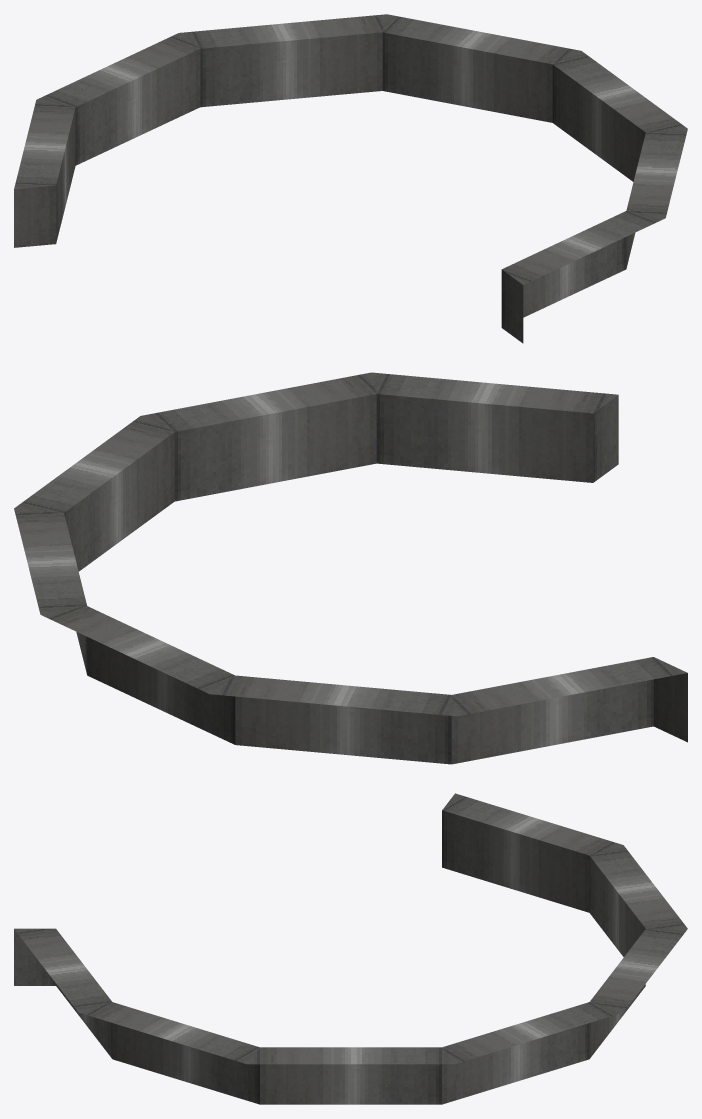
Rendered from obstacle7.obj.
The picture shows the model from 3 angles, top to bottom: view 1: azimuth 30°, elevation 25°; view 2: azimuth 150°, elevation 25°; view 3: azimuth 270°, elevation 25°; orthographic projection. The views are drawn at different scales.
Visible parts, largest first — view 1: obstacle7; view 2: obstacle7; view 3: obstacle7.
Boxes of the visible parts, x1=… form: obstacle7: x1=14, y1=14, x2=687, y2=343; obstacle7: x1=14, y1=372, x2=687, y2=764; obstacle7: x1=14, y1=793, x2=687, y2=1104.
Size of the model in its own units: 3.14 by 0.31 by 3.3.
